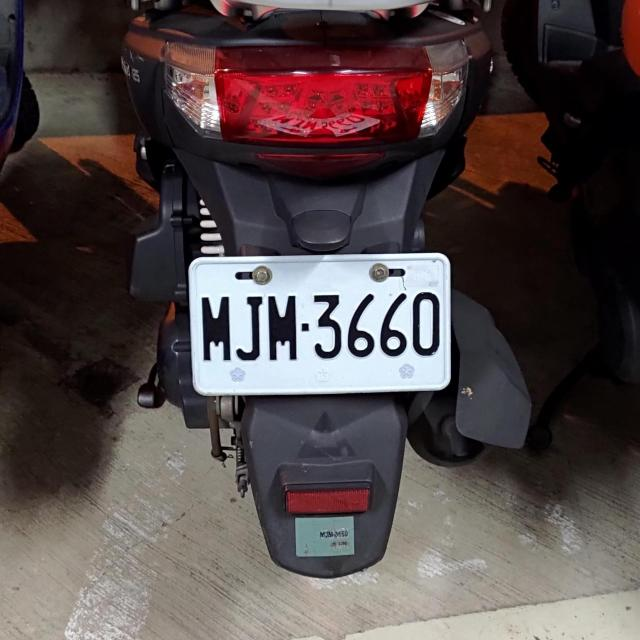W: (186, 251, 452, 396)
